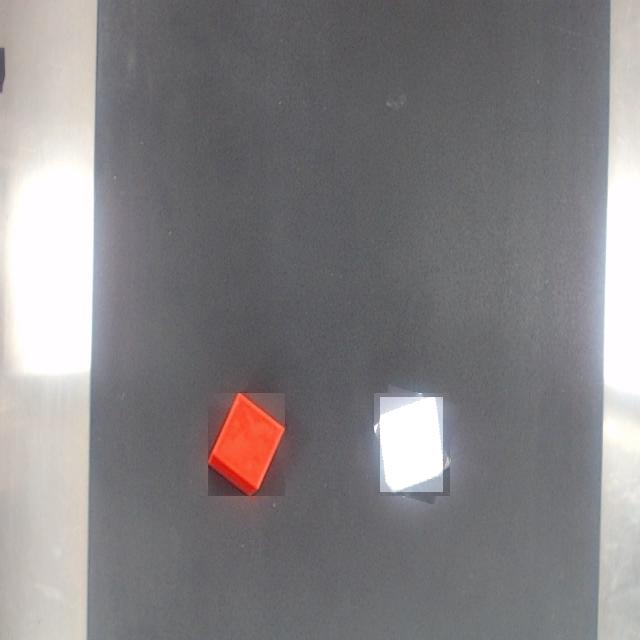Blanco: (380, 398, 443, 492)
Rojo: (208, 393, 285, 496)
